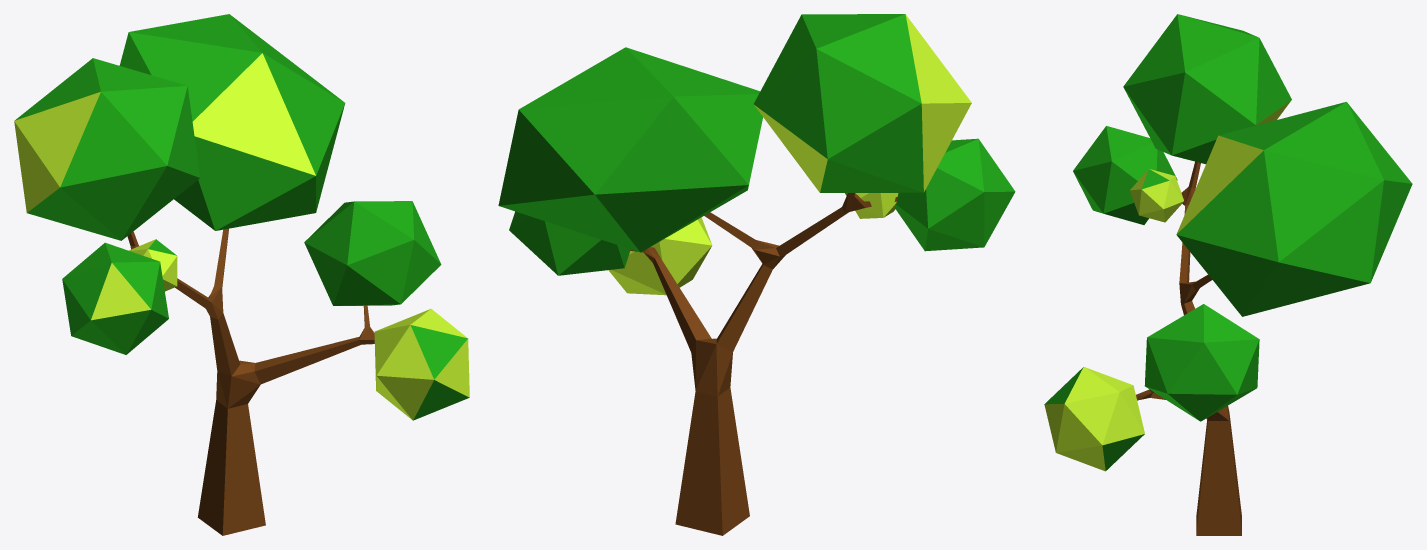
Rendered from Tree3.fbx.
3 renders of one model, left to right at view 1: azimuth 30°, elevation 25°; view 2: azimuth 150°, elevation 25°; view 3: azimuth 270°, elevation 25°, orthographic. The views are drawn at different scales.
Parts seen in each view (by area): view 1: Tree; view 2: Tree; view 3: Tree.
Part boxes in pixels (<box>): Tree: <box>14,14,469,535</box>; Tree: <box>498,14,1015,535</box>; Tree: <box>1044,14,1412,535</box>.
Bounding box in the file's own units: 634 × 751 × 565.
